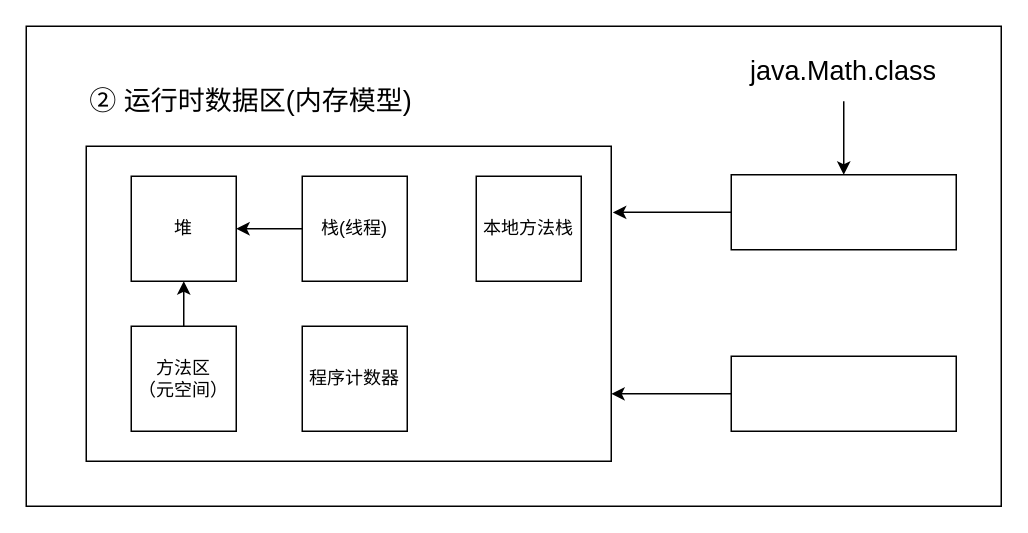
The diagram is 1028 pixels wide and 533 high, and some of its shapes have lost their labels. The shapes that lost their labels are listed below. From the top down, each one's centre as x and y in pixels, then its label:
At (x=843, y=211): "① 类装载子系统".
At (x=843, y=393): "③ 字节码执行器".
